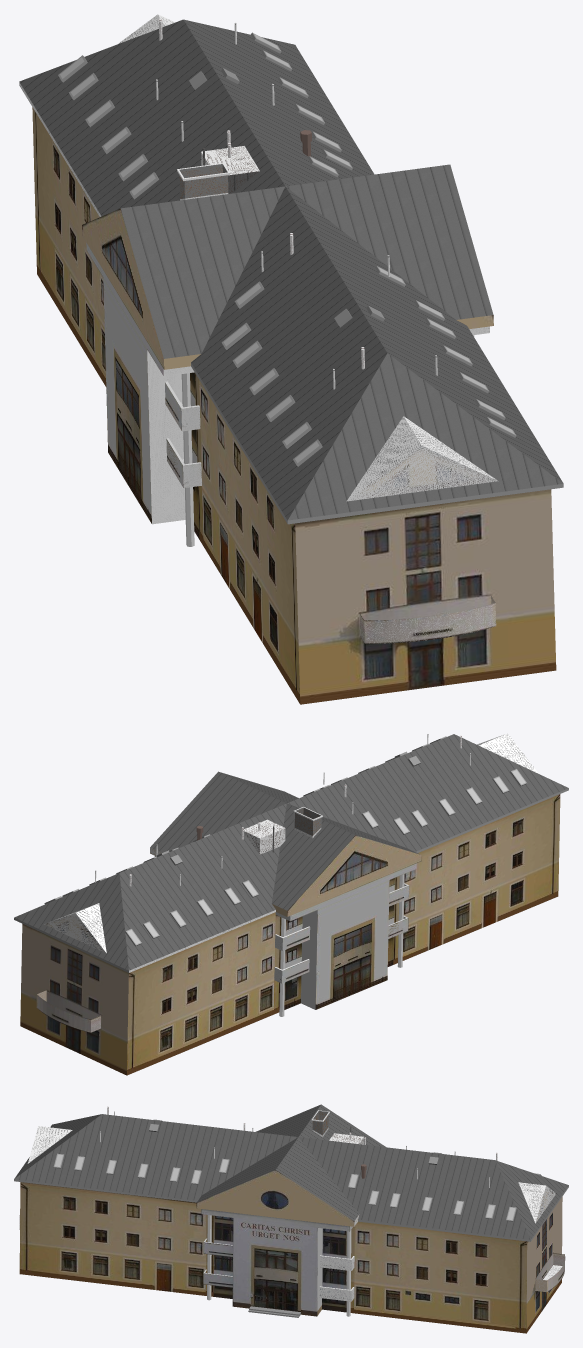
File: rehol_centrum.glb
3 renders of one model, top to bottom at view 1: azimuth 30°, elevation 25°; view 2: azimuth 150°, elevation 25°; view 3: azimuth 270°, elevation 25°, orthographic. The views are drawn at different scales.
Visible parts, largest first — view 1: material_6, STENA-J, STENA-SV, material, STENA-JV1, priečelie-budovy-východ, M_rehol_centrum, _3uholník-priečelie-budovy, Color_002, Color_004, material_8, _3uholník-priečelie-budovy-Sever-a-Juh; view 2: material_6, STENA-SV, STENA-JV1, STENA-J, priečelie-budovy-východ, material, _3uholník-priečelie-budovy, M_rehol_centrum, Color_002, Color_004, material_8; view 3: material_6, STENA-SZ, STENA-JZ, priečelie-budovy-západ, _3uholník-priečelie-budovy-vchod, material, STENA-J, M_rehol_centrum, Color_002, Color_004, Color_006.
Boxes of the visible parts, left/top/right/bottom form: material_6: left=19, top=15, right=563, bottom=520; STENA-J: left=295, top=489, right=556, bottom=704; STENA-SV: left=195, top=373, right=300, bottom=703; material: left=19, top=14, right=498, bottom=643; STENA-JV1: left=32, top=107, right=106, bottom=386; priečelie-budovy-východ: left=86, top=243, right=201, bottom=539; M_rehol_centrum: left=20, top=32, right=563, bottom=524; _3uholník-priečelie-budovy: left=82, top=208, right=164, bottom=369; Color_002: left=148, top=23, right=437, bottom=546; Color_004: left=60, top=34, right=513, bottom=462; material_8: left=179, top=164, right=228, bottom=198; _3uholník-priečelie-budovy-Sever-a-Juh: left=360, top=446, right=494, bottom=497; material_6: left=14, top=734, right=568, bottom=970; STENA-SV: left=393, top=794, right=560, bottom=964; STENA-JV1: left=127, top=912, right=281, bottom=1075; STENA-J: left=20, top=924, right=128, bottom=1075; priečelie-budovy-východ: left=274, top=863, right=416, bottom=1009; material: left=44, top=733, right=538, bottom=972; _3uholník-priečelie-budovy: left=287, top=835, right=421, bottom=916; M_rehol_centrum: left=14, top=736, right=568, bottom=972; Color_002: left=95, top=734, right=470, bottom=1016; Color_004: left=127, top=770, right=525, bottom=944; material_8: left=294, top=807, right=321, bottom=835; material_6: left=14, top=1104, right=568, bottom=1239; STENA-SZ: left=19, top=1182, right=214, bottom=1296; STENA-JZ: left=350, top=1221, right=527, bottom=1333; priečelie-budovy-západ: left=201, top=1209, right=351, bottom=1316; _3uholník-priečelie-budovy-vchod: left=196, top=1170, right=357, bottom=1226; material: left=19, top=1106, right=562, bottom=1301; STENA-J: left=19, top=1196, right=565, bottom=1332; M_rehol_centrum: left=14, top=1128, right=568, bottom=1276; Color_002: left=100, top=1111, right=489, bottom=1316; Color_004: left=55, top=1154, right=515, bottom=1219; Color_006: left=248, top=1306, right=300, bottom=1317.
Bounding box in the file's own units: 27.94 × 16.47 × 55.21.
Materials: 27 (14 with a texture image).
